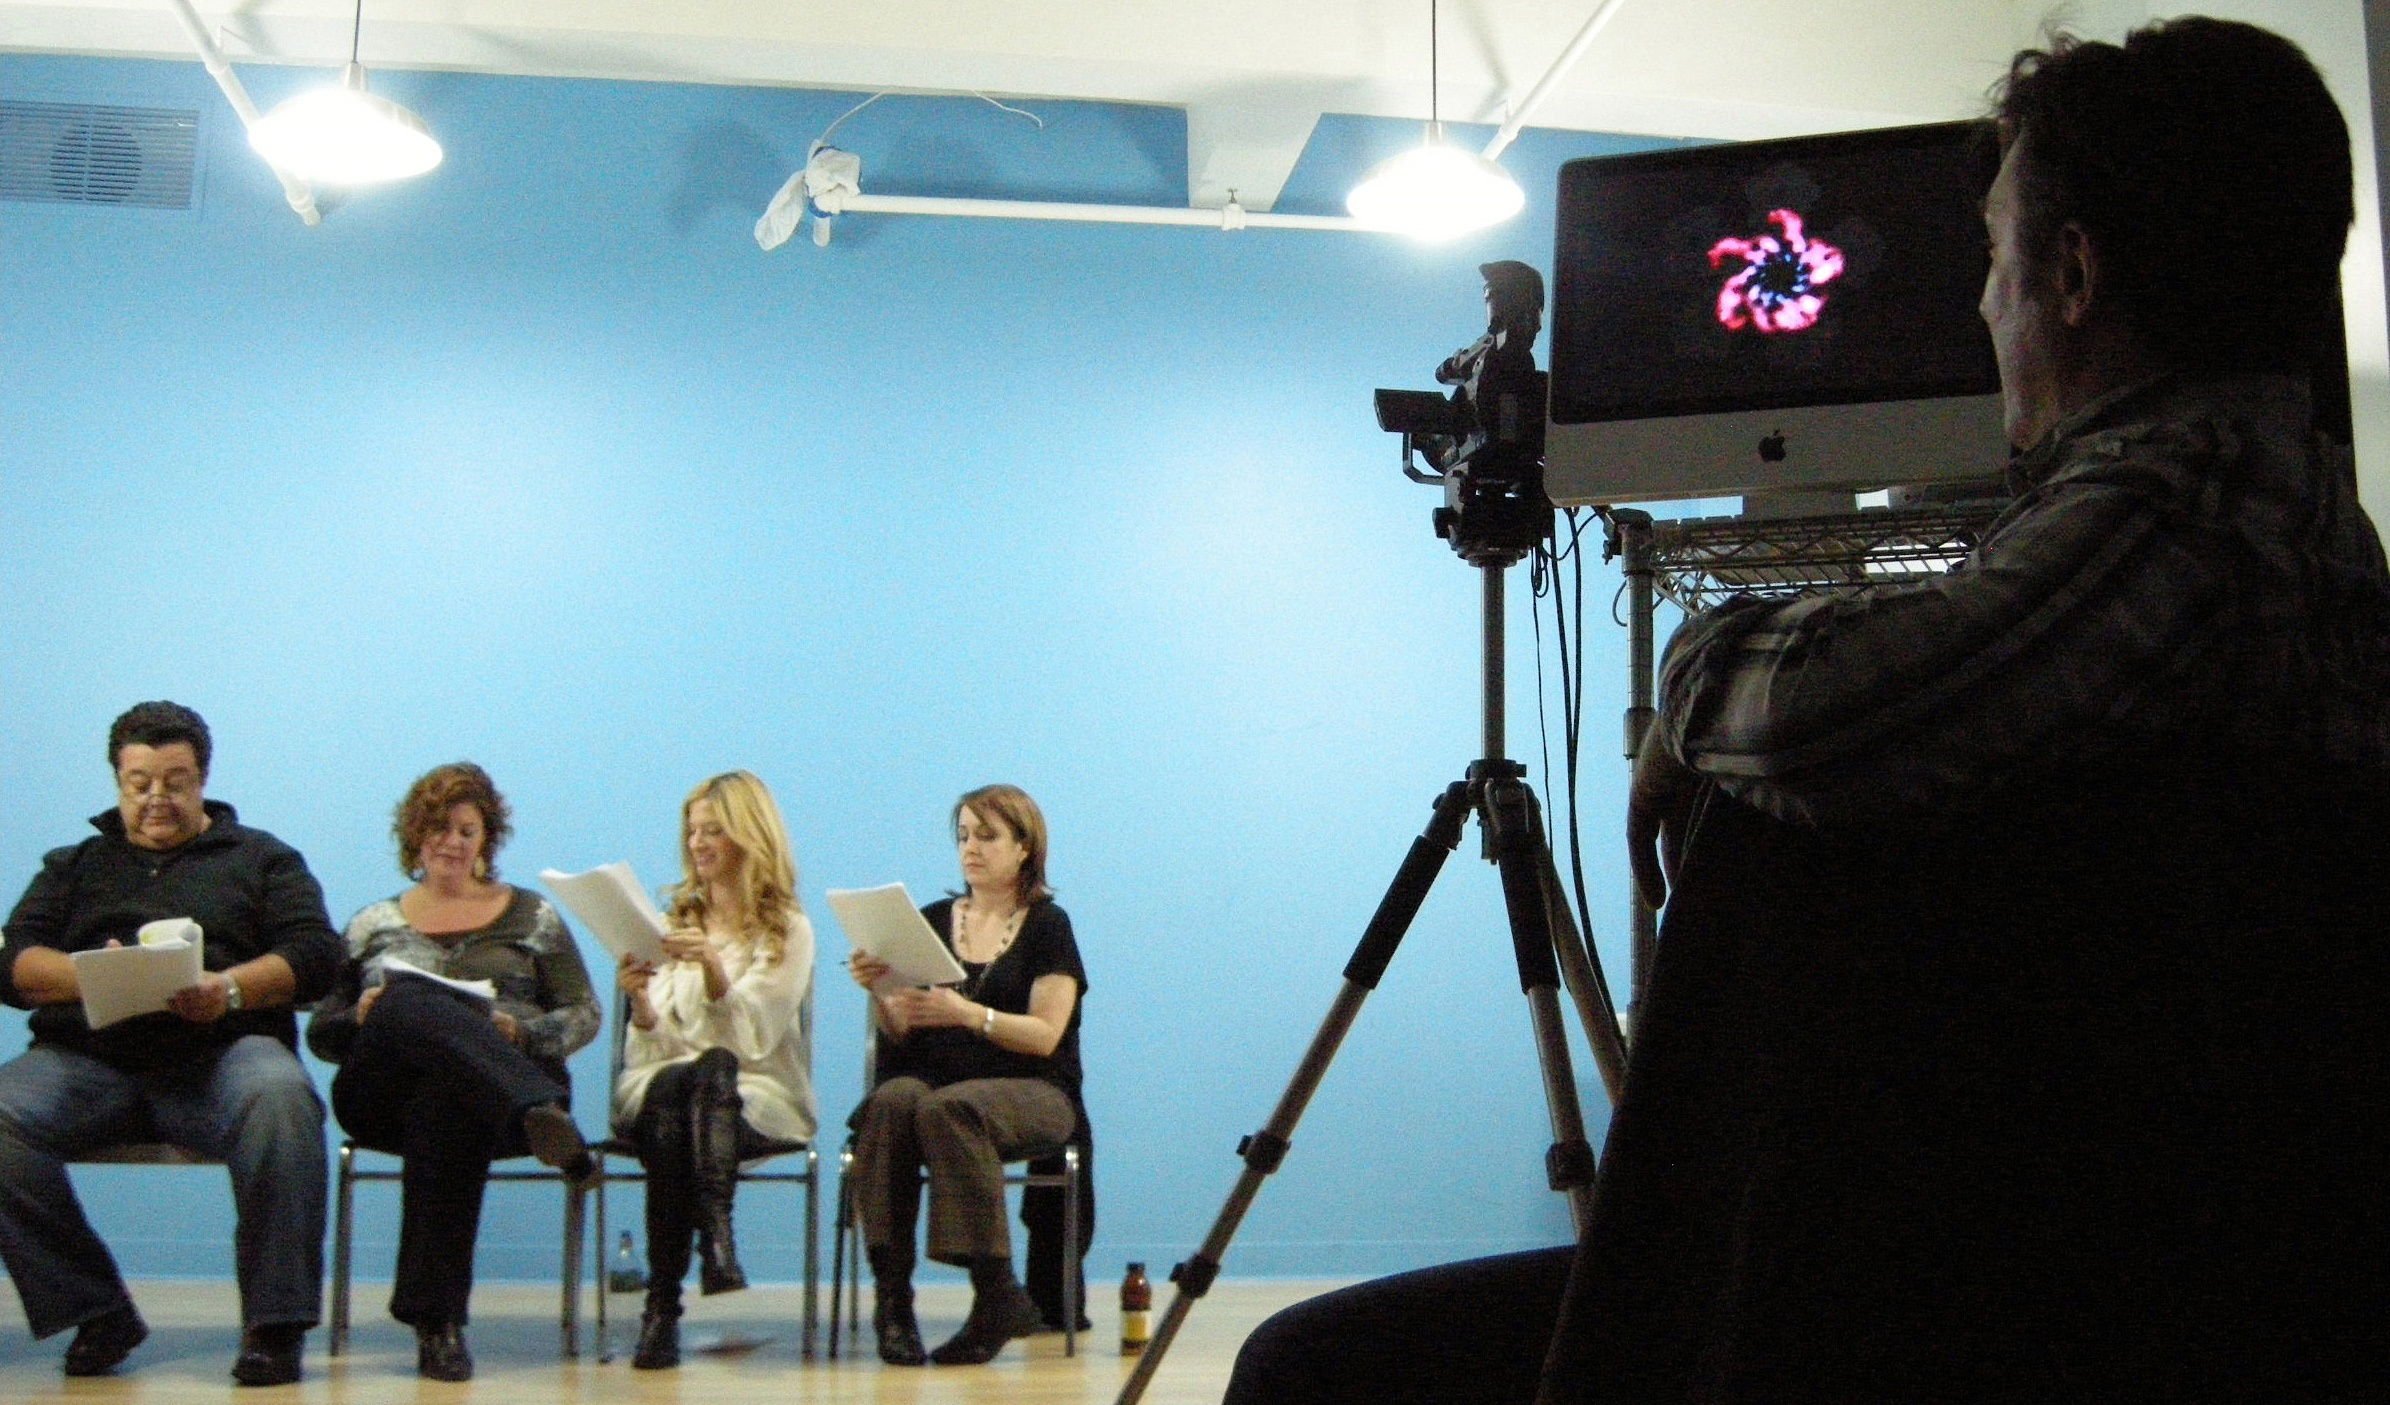bad: (115, 753, 206, 843), (943, 820, 1005, 881)
